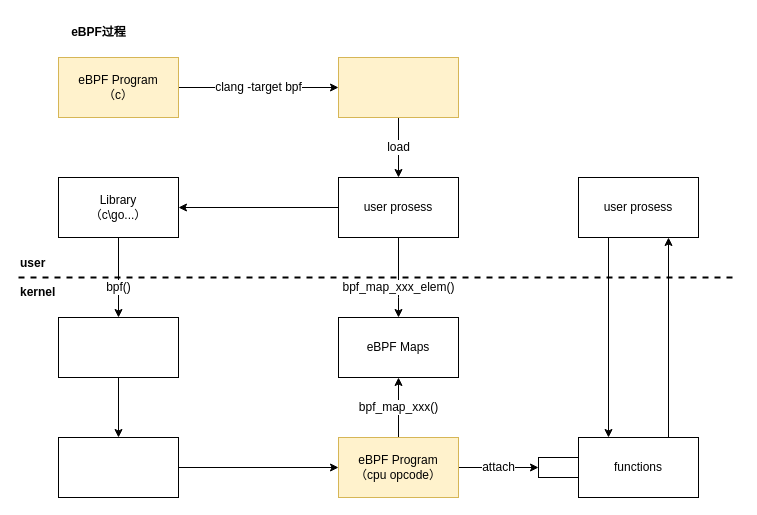
This 757x515 diagram has some shape labels left out. Each missing label, with the centre of its shape:
"eBPF JIT Compiler" goes at [118,467].
"eBPF Program （bytecode）" goes at [398,87].
"eBPF Verifier" goes at [118,347].
"hook" goes at [558,467].
